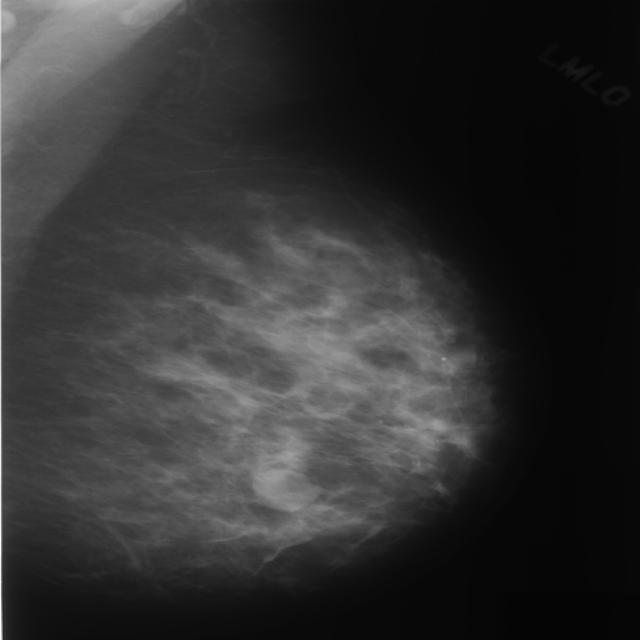tumour: (249, 468, 315, 510)
